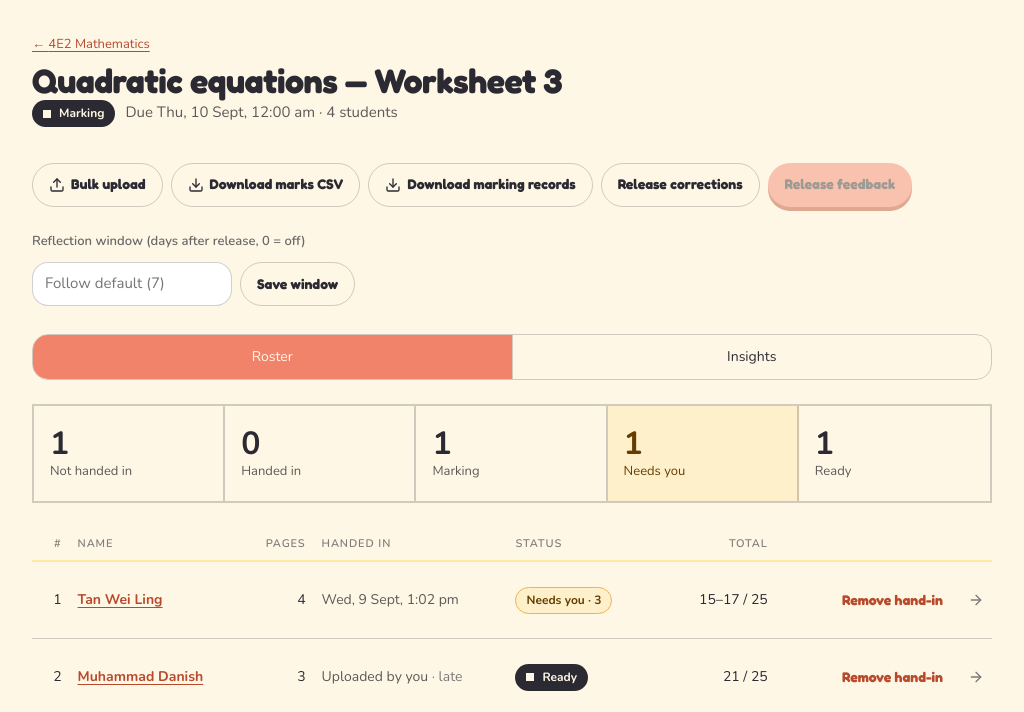
it: ClassAssignmentPage › releases decided corrections and says how many
This screenshot has width=1024, height=712.
Click the button "Release corrections" at x=680, y=185, box top-left (601, 163), bottom-right (760, 207)
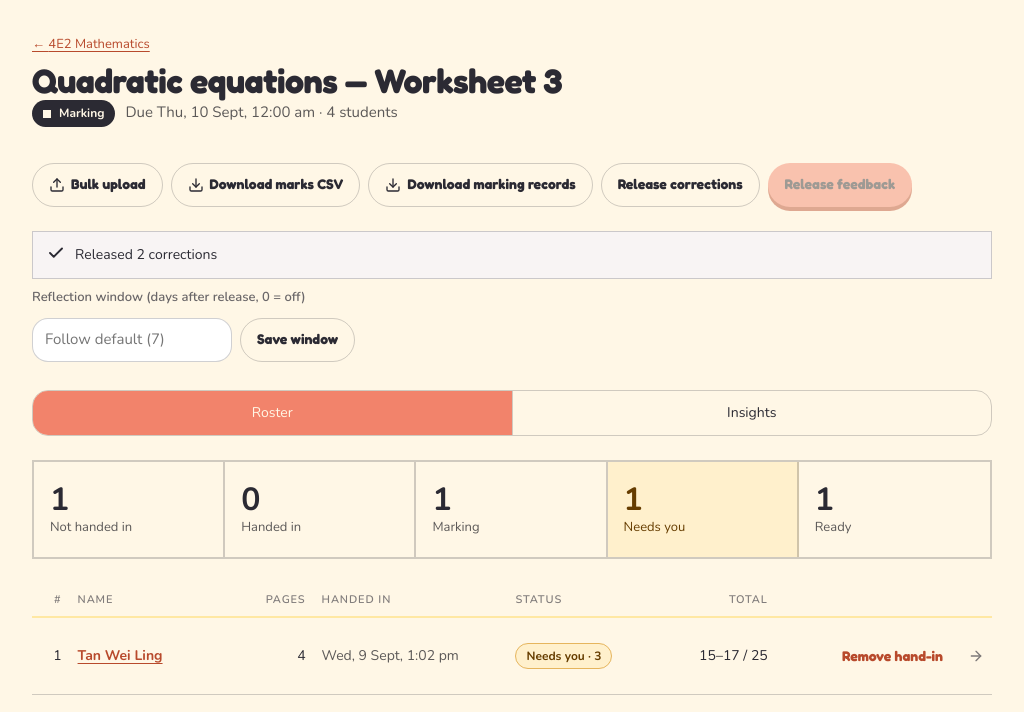
Now the text "Released 2 corrections" is shown, box top-left (75, 244), bottom-right (217, 266)
